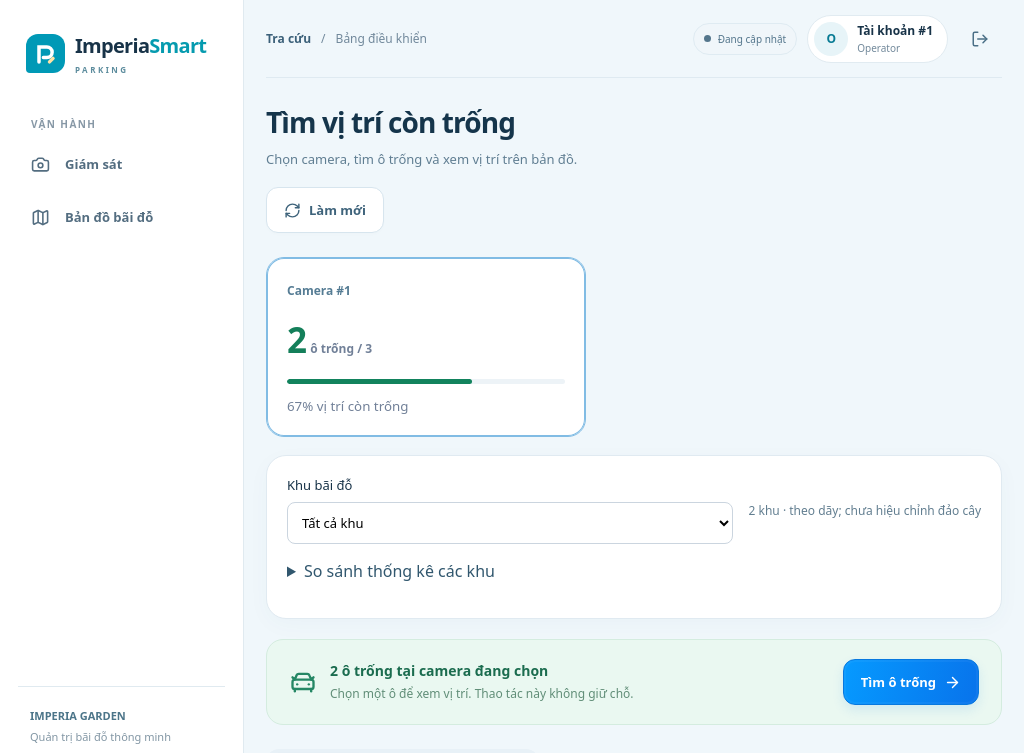
Test: zone views › only chooses an available space inside the selected lookup zone
Select "Khu 2 · Toàn bộ dãy · chưa hiệu chỉnh đảo cây · cột 1 · 2 ô" in the dropdown labelled "Khu bãi đỗ": (510, 523) [287,502,732,544]
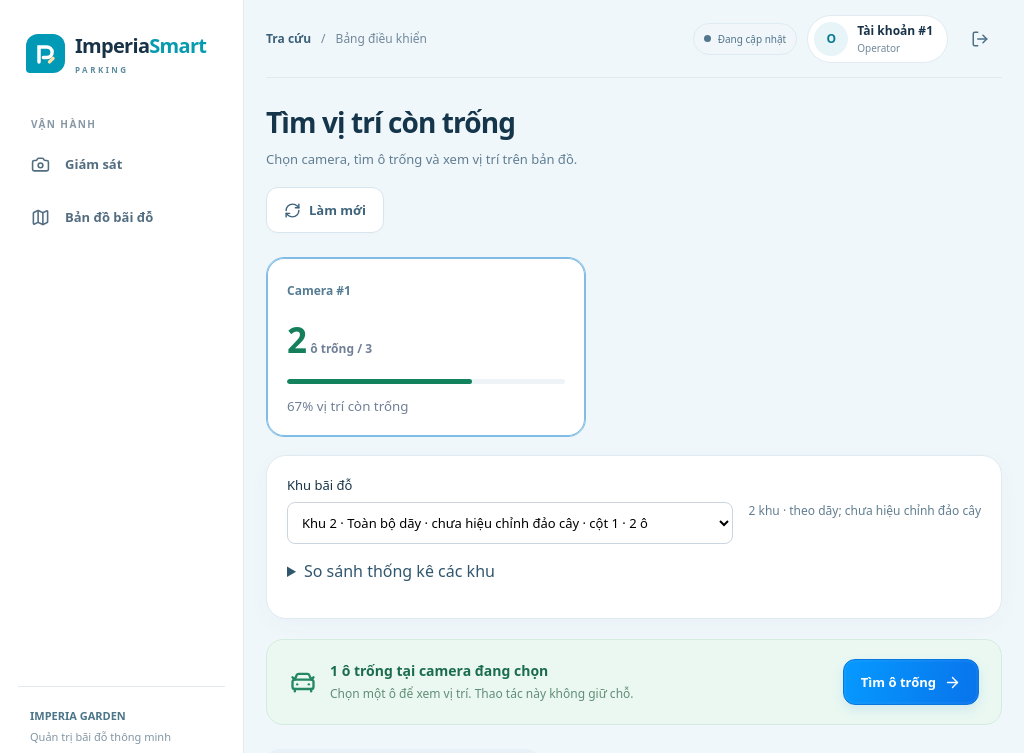
Click the button "Tìm ô trống": (911, 682) [843,659,979,705]
(page scrolled)
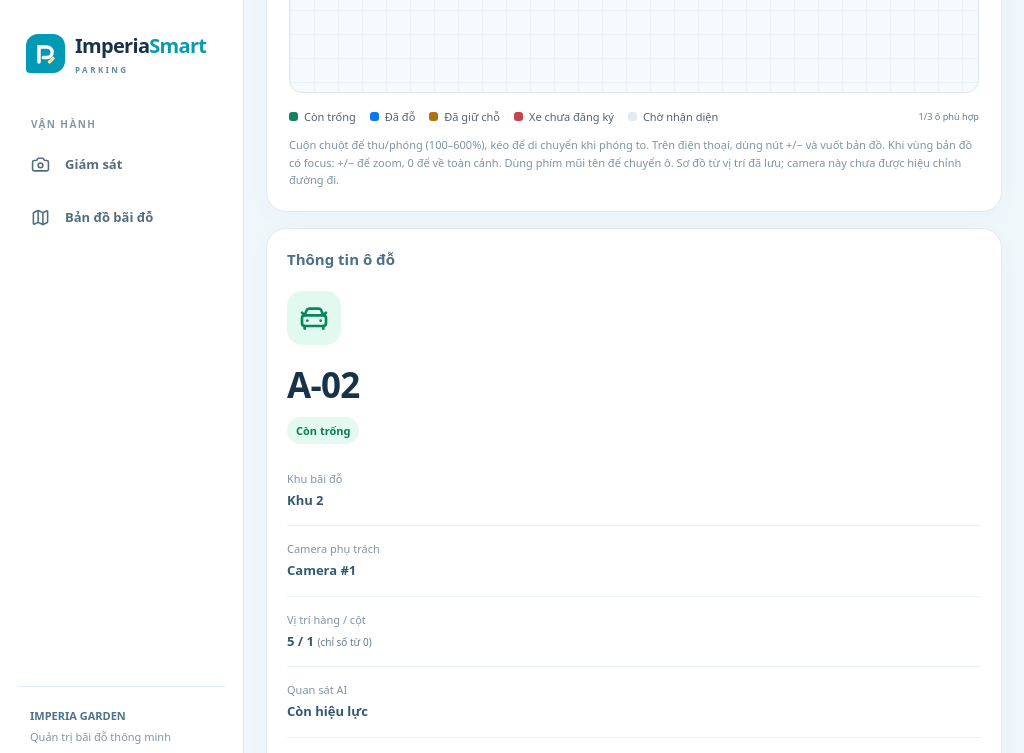
expect the heading "A-02" is shown: met, box [287,361,360,408]
